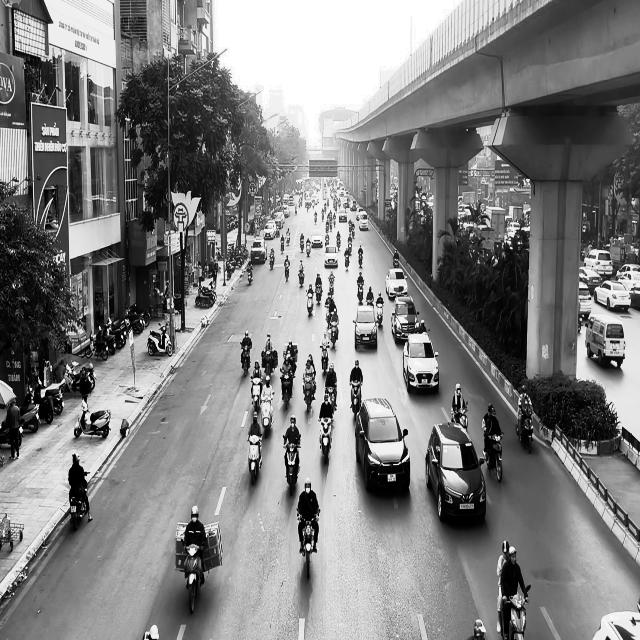car: (425, 420, 486, 522), (355, 396, 410, 492), (402, 331, 440, 394), (592, 610, 640, 639), (391, 294, 418, 343), (352, 304, 378, 350), (385, 267, 408, 299), (324, 245, 338, 267)
motorbike: (296, 508, 321, 579), (500, 584, 531, 639), (74, 398, 111, 439), (183, 542, 204, 614), (68, 472, 90, 530), (282, 434, 301, 495), (482, 430, 504, 482), (146, 322, 172, 356), (246, 432, 262, 484), (318, 416, 334, 464), (260, 394, 274, 437), (280, 369, 293, 410), (302, 374, 316, 412), (451, 401, 468, 432), (349, 379, 362, 419), (250, 376, 262, 410), (240, 342, 250, 377), (328, 319, 338, 349), (320, 342, 329, 374), (306, 290, 314, 316), (376, 302, 383, 326), (298, 267, 304, 286), (268, 251, 274, 270), (247, 265, 253, 284), (284, 264, 289, 282)
